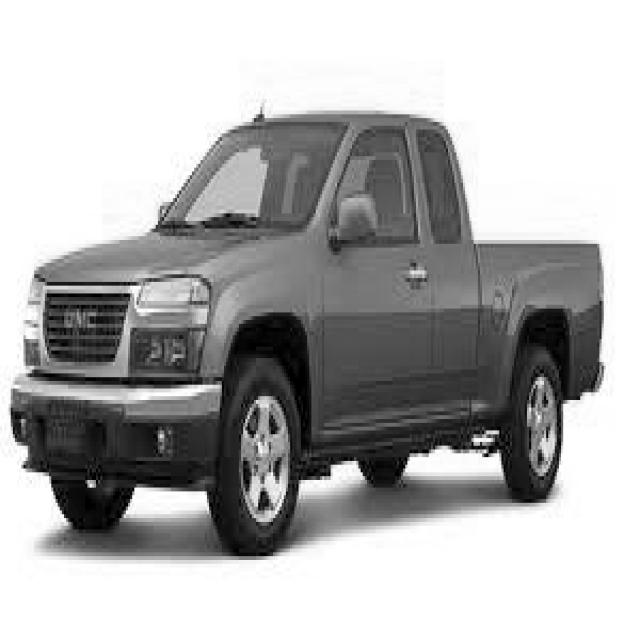car: (9, 103, 604, 556)
